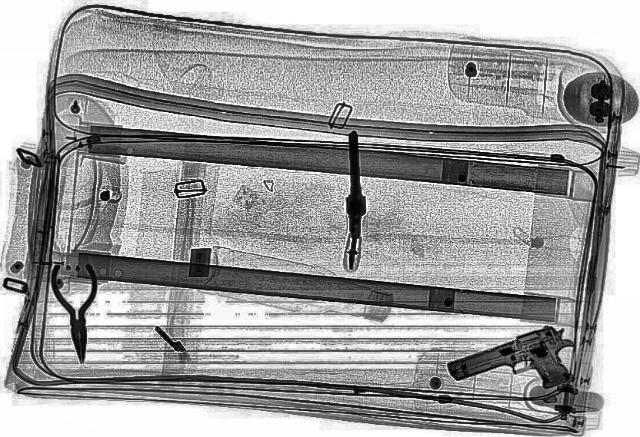Gun: (438, 322, 600, 410)
Pliers: (48, 264, 108, 362)
